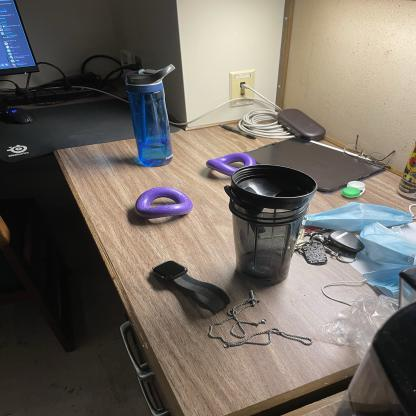ring: (133, 186, 192, 219), (204, 151, 257, 178)
